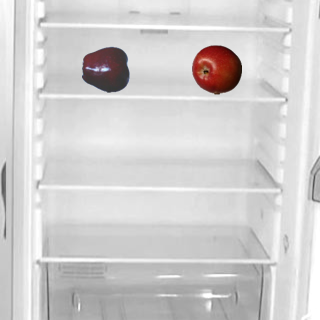Apple Braeburn: (191, 44, 241, 94)
Apple Red Delicious: (81, 44, 131, 94)
